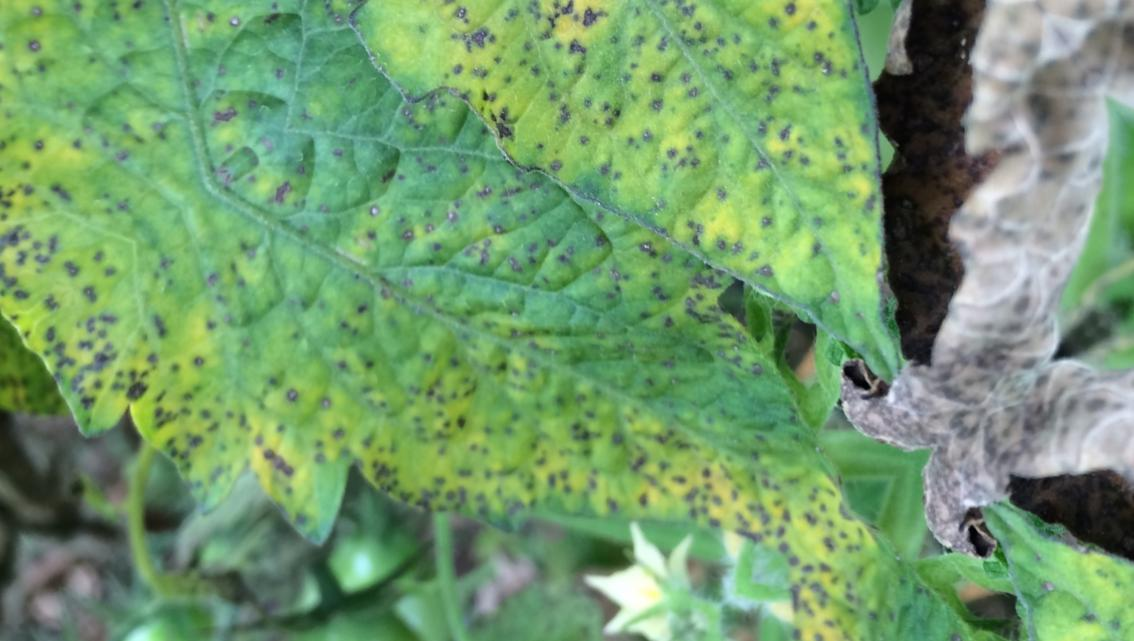Tomato Septoria leaf spot: (0, 0, 899, 641), (371, 0, 1134, 550)
